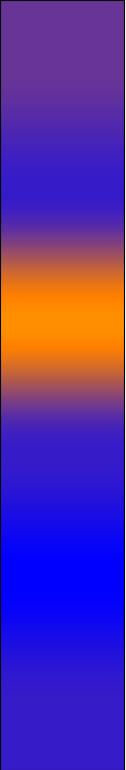Thermal Runaway: (5, 291, 119, 345)
critical: (6, 354, 116, 398), (8, 246, 116, 284)
safe: (9, 405, 118, 764), (5, 10, 119, 241)
